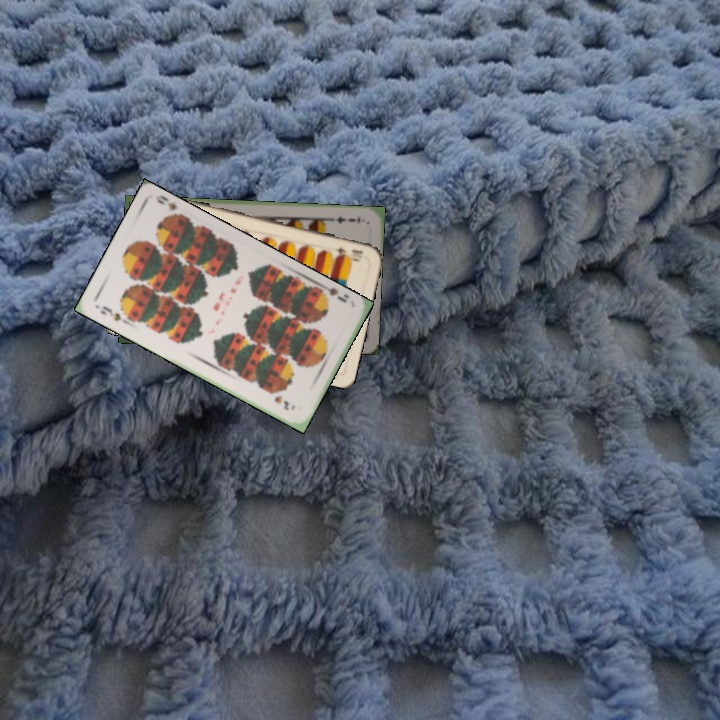E10: (332, 243, 366, 261)
E7: (328, 212, 363, 226)
S9: (96, 302, 132, 327), (316, 281, 350, 305)
